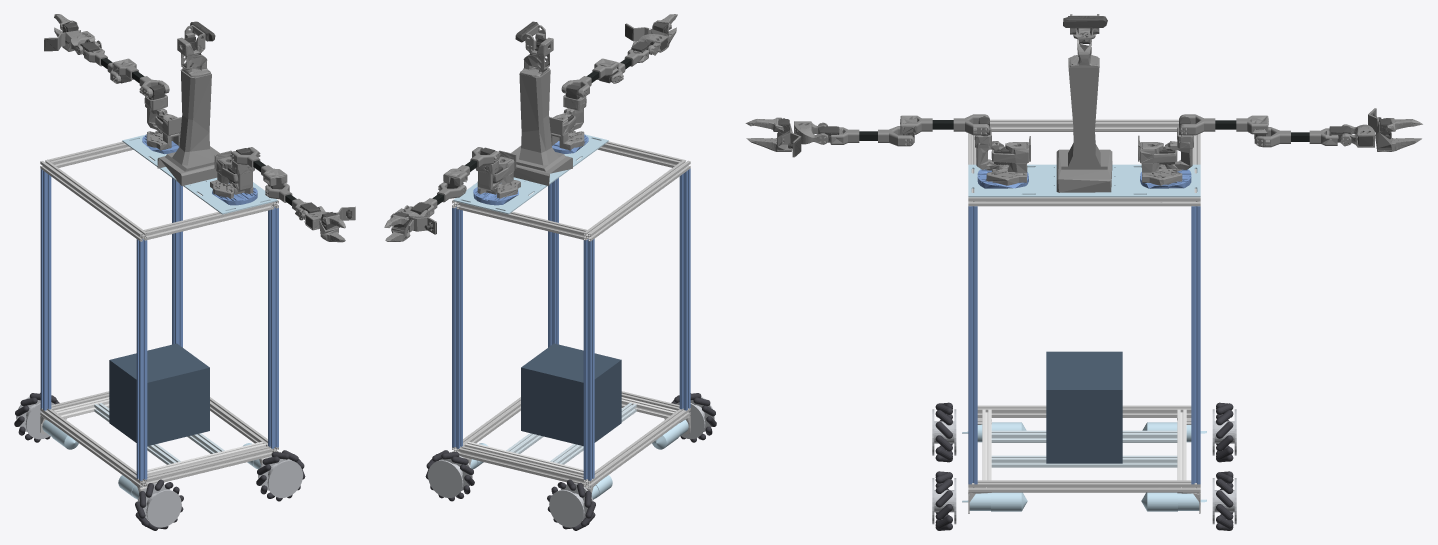
Rendered from cleany-e718ac57-web.glb.
3 renders of one model, left to right at view 1: azimuth 30°, elevation 25°; view 2: azimuth 150°, elevation 25°; view 3: azimuth 270°, elevation 25°, orthographic. The views are drawn at different scales.
Parts seen in each view (by area): view 1: chassis_46, top_base_link_112, chassis_11, chassis_12, chassis_14, chassis_13, chassis_1, chassis_17, chassis_4, chassis_7, chassis_16, Base_2_80 (+16 smaller); view 2: chassis_46, top_base_link_112, chassis_12, chassis_11, chassis_13, chassis_1, chassis_14, chassis_17, chassis_4, chassis_18, chassis_3, front_left_wheel_122 (+18 smaller); view 3: chassis_46, top_base_link_112, chassis_1, chassis_8, chassis_14, chassis_13, chassis_5, chassis_17, chassis_10, chassis_4, chassis_6, Base_48 (+7 smaller).
Boxes of the visible parts, box(x1,y1,x2,y2) form: chassis_46: box(109, 343, 209, 446); top_base_link_112: box(157, 53, 219, 185); chassis_11: box(136, 239, 147, 480); chassis_12: box(40, 169, 51, 410); chassis_14: box(268, 207, 278, 448); chassis_13: box(172, 178, 182, 347); chassis_1: box(122, 134, 277, 214); chassis_17: box(40, 160, 147, 241); chassis_4: box(40, 408, 147, 488); chassis_7: box(145, 446, 271, 486); chassis_16: box(143, 202, 271, 239); Base_2_80: box(210, 150, 253, 198); chassis_46: box(521, 343, 621, 445); top_base_link_112: box(511, 53, 572, 185); chassis_12: box(583, 239, 594, 480); chassis_11: box(679, 168, 690, 410); chassis_13: box(452, 207, 462, 448); chassis_1: box(453, 134, 608, 214); chassis_14: box(548, 178, 558, 347); chassis_17: box(583, 159, 690, 241); chassis_4: box(583, 408, 690, 487); chassis_18: box(459, 446, 585, 485); chassis_3: box(459, 202, 586, 239); front_left_wheel_122: box(428, 460, 463, 497); chassis_46: box(1046, 351, 1122, 463); top_base_link_112: box(1056, 39, 1112, 192); chassis_1: box(968, 164, 1200, 197); chassis_8: box(968, 480, 1200, 492); chassis_14: box(968, 206, 977, 484); chassis_13: box(1191, 206, 1200, 484); chassis_5: box(968, 197, 1200, 206); chassis_17: box(990, 119, 1178, 131); chassis_10: box(991, 455, 1177, 467); chassis_4: box(977, 405, 1191, 417); chassis_6: box(991, 430, 1177, 442); Base_48: box(1138, 135, 1182, 185).
Bounding box in the file's own units: 0.477 × 1.19 × 1.46.
